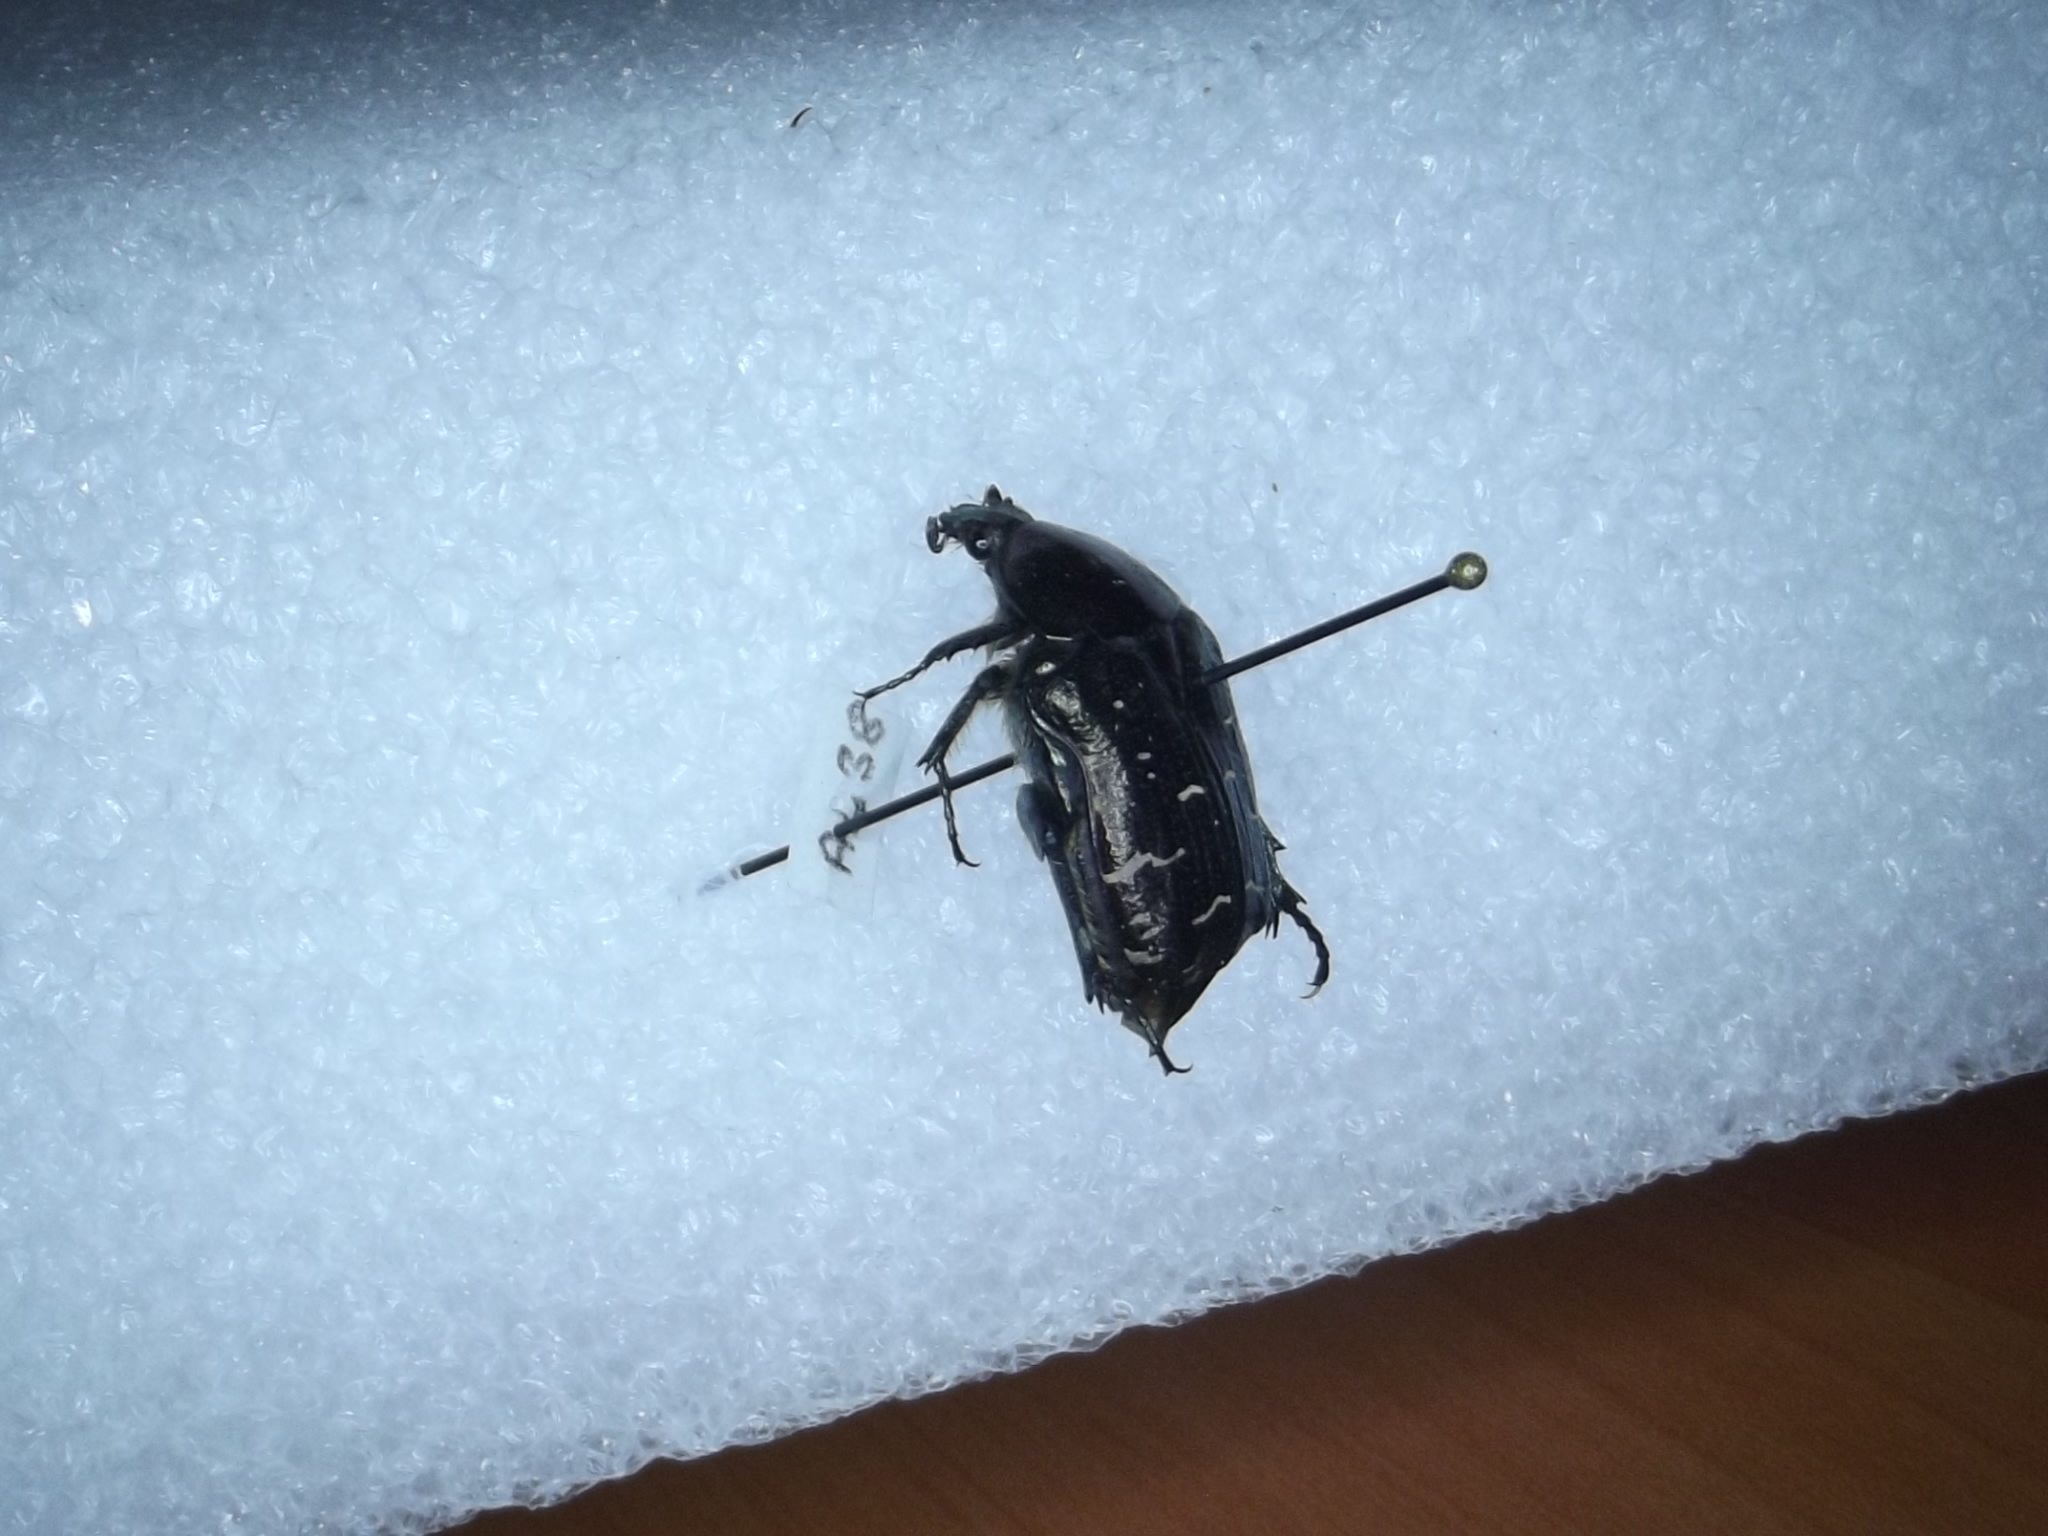Cetonia_kemali: (900, 470, 1355, 1083)
